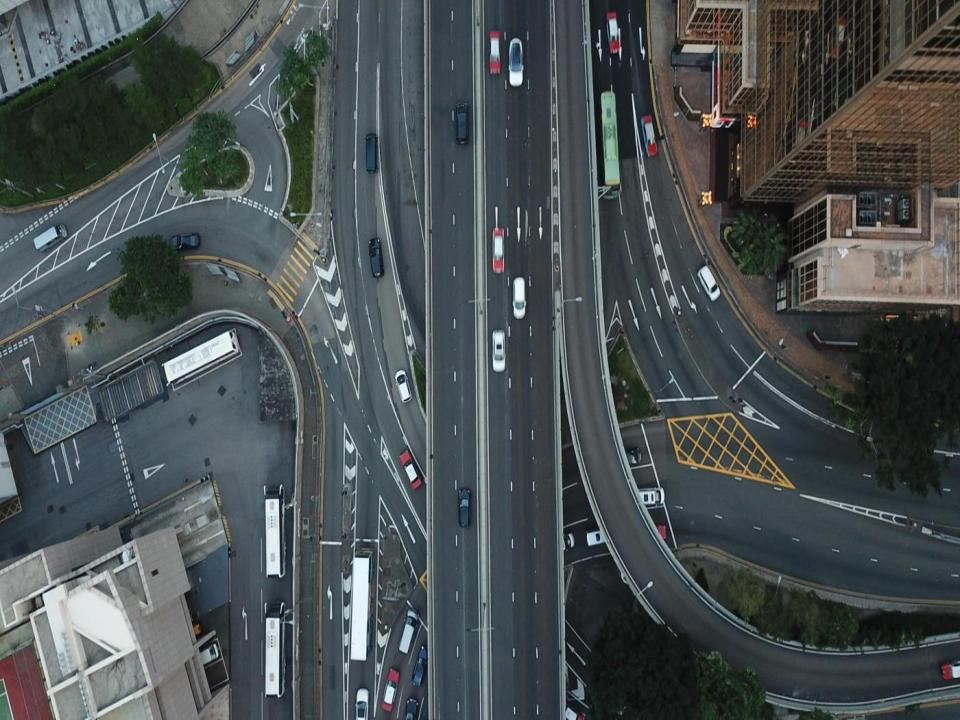bus: (161, 331, 240, 386), (350, 546, 375, 662), (598, 90, 620, 198), (262, 483, 286, 576), (263, 600, 286, 696)
car: (412, 645, 432, 687), (399, 449, 420, 488), (640, 114, 657, 156), (508, 38, 523, 85), (382, 667, 398, 711), (490, 329, 506, 371), (368, 236, 384, 277), (632, 486, 665, 505), (546, 529, 574, 551), (394, 369, 411, 402), (488, 29, 500, 75), (492, 227, 504, 273), (456, 102, 468, 146), (353, 688, 370, 719), (605, 12, 618, 52), (170, 233, 200, 250), (617, 448, 641, 468), (458, 488, 470, 527), (939, 660, 960, 679), (402, 697, 419, 719), (557, 706, 585, 719), (643, 524, 667, 539)
van: (33, 224, 67, 252), (399, 610, 418, 655), (698, 265, 720, 299), (189, 642, 219, 666), (585, 526, 615, 548), (512, 276, 526, 318), (365, 132, 378, 172)
